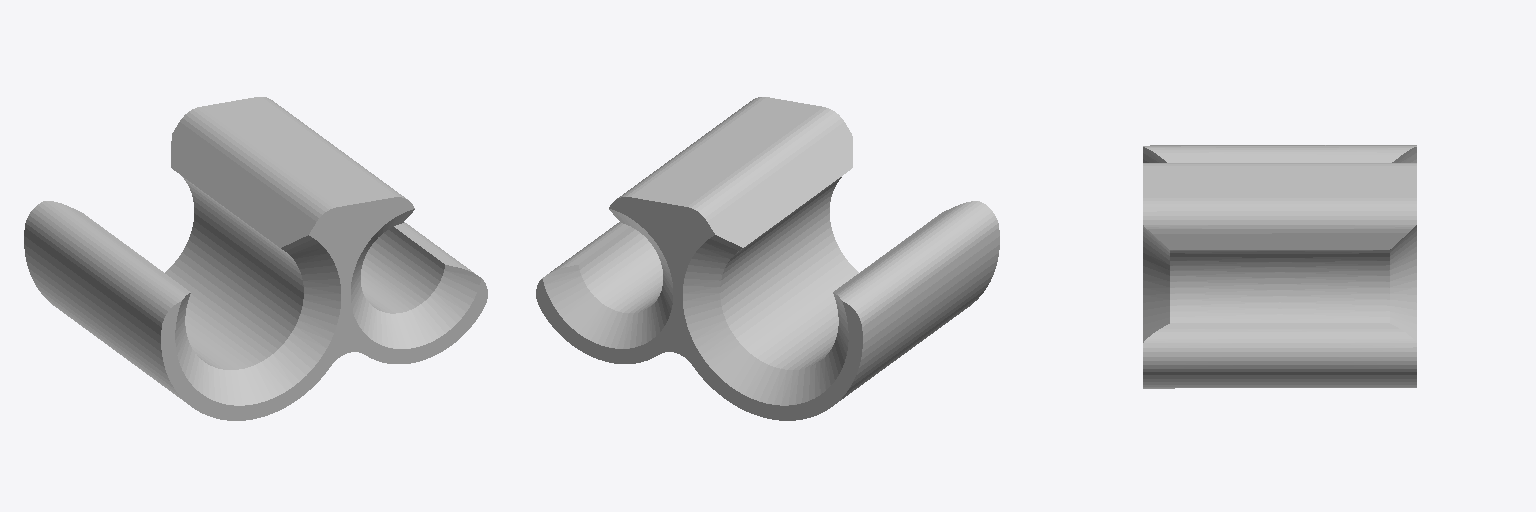
The model's file is Wire Clip 5mm.obj.
3 views of the same model, side by side, from view 1: azimuth 30°, elevation 25°; view 2: azimuth 150°, elevation 25°; view 3: azimuth 270°, elevation 25° (orthographic).
Size of the model in its own units: 13.77 by 7.73 by 10.01.